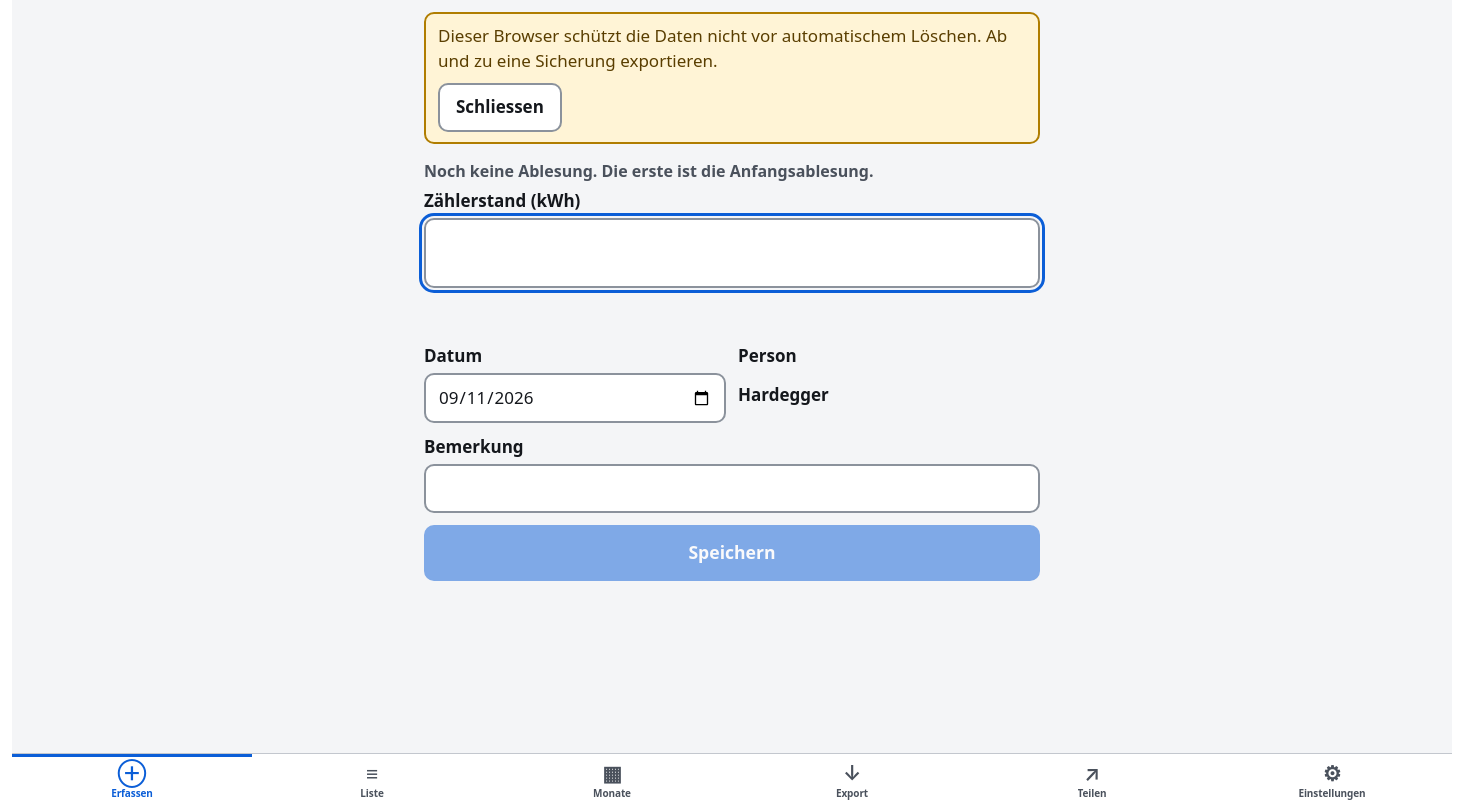
Test: saving (FR-1.4, AC-3) › announces the first reading as the opening one
Type "100" into the field labelled "Zählerstand (kWh)" at (732, 253), box [424,218,1040,288]
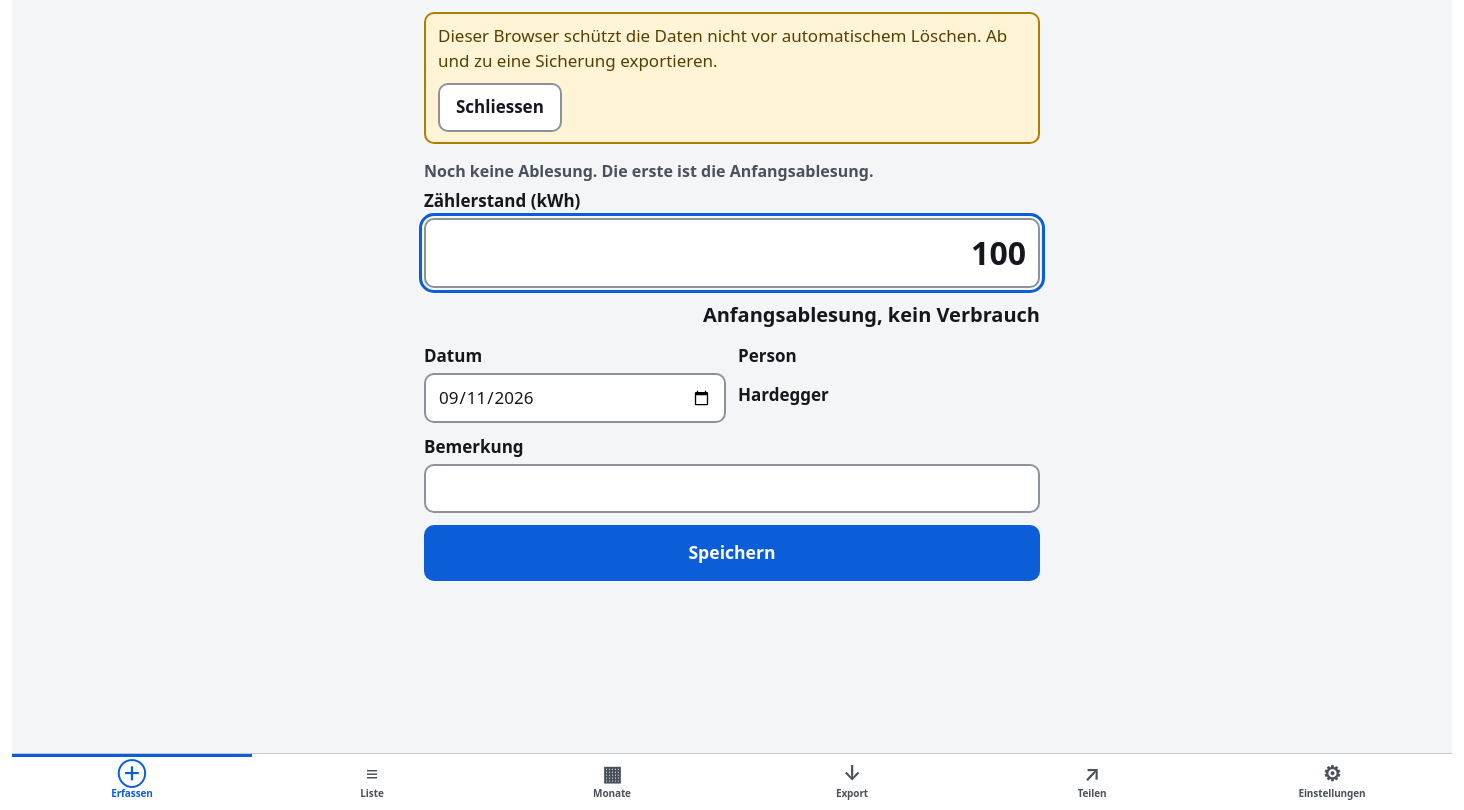
Click the button "Speichern" at (732, 553), box [424,525,1040,581]
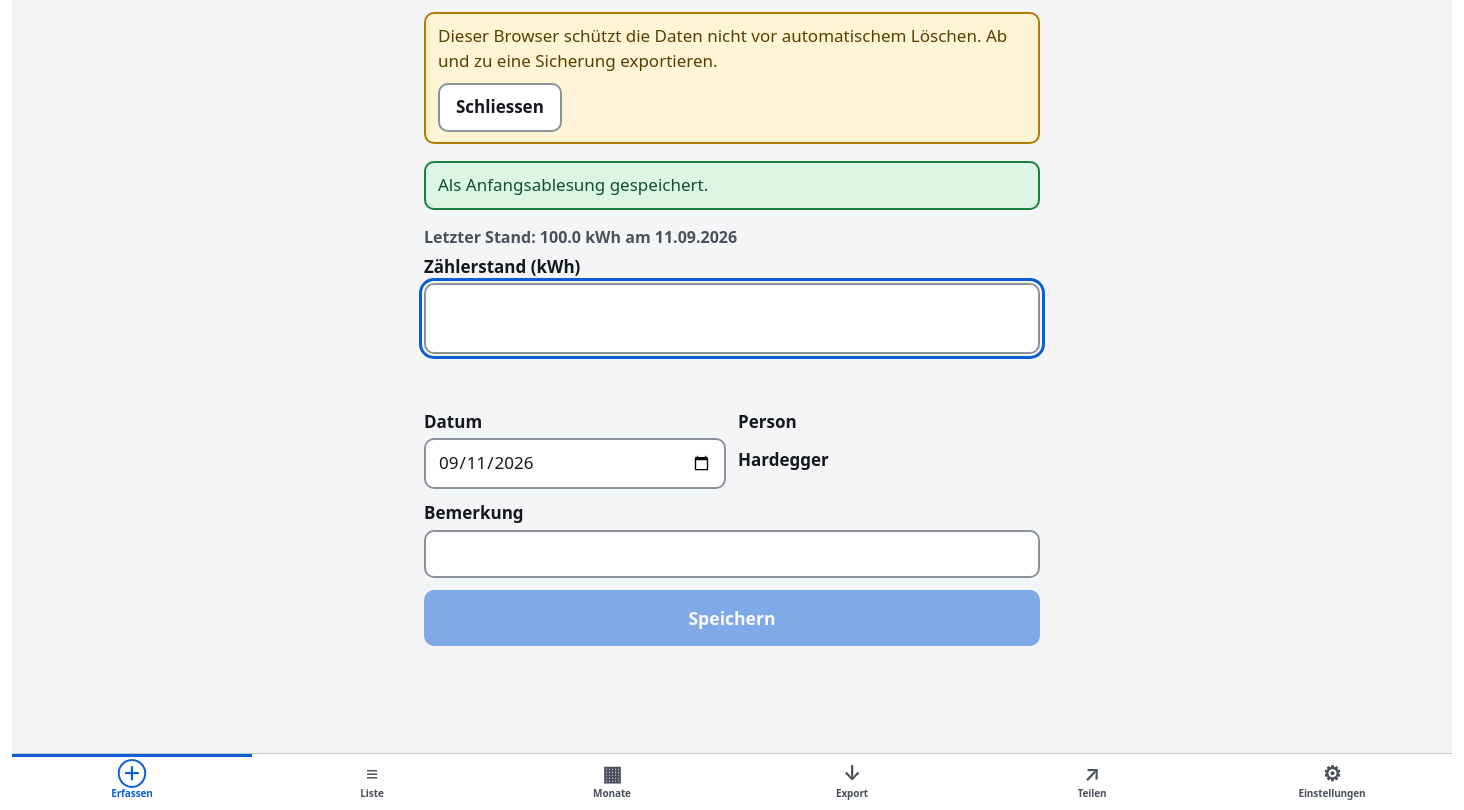
Check: the text "Als Anfangsablesung gespeichert." is shown, box [424,161,1040,210]
